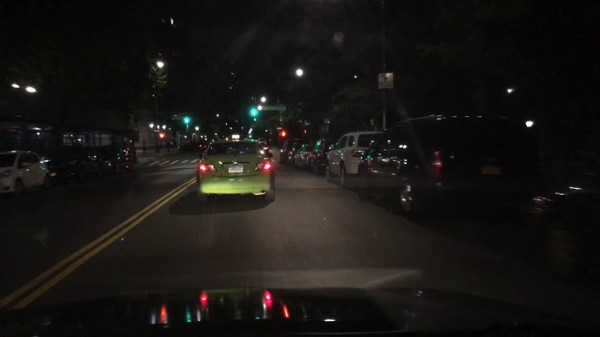car: (356, 110, 539, 219), (521, 155, 599, 286), (196, 138, 275, 202), (323, 131, 382, 186), (0, 149, 51, 199), (45, 143, 99, 186), (302, 138, 338, 174), (94, 145, 135, 176), (279, 138, 304, 165), (290, 142, 314, 170), (285, 142, 304, 167), (177, 142, 198, 154), (197, 143, 208, 151), (258, 138, 267, 146)
person: (141, 140, 147, 154), (165, 140, 171, 153), (159, 143, 162, 151)
traffic light: (250, 108, 258, 118), (183, 116, 190, 124), (279, 131, 286, 137), (159, 133, 165, 139)
traffic sign: (378, 72, 394, 89), (258, 105, 286, 111), (319, 124, 330, 134), (170, 114, 187, 120), (323, 119, 330, 124), (154, 129, 161, 132), (275, 127, 282, 130)
